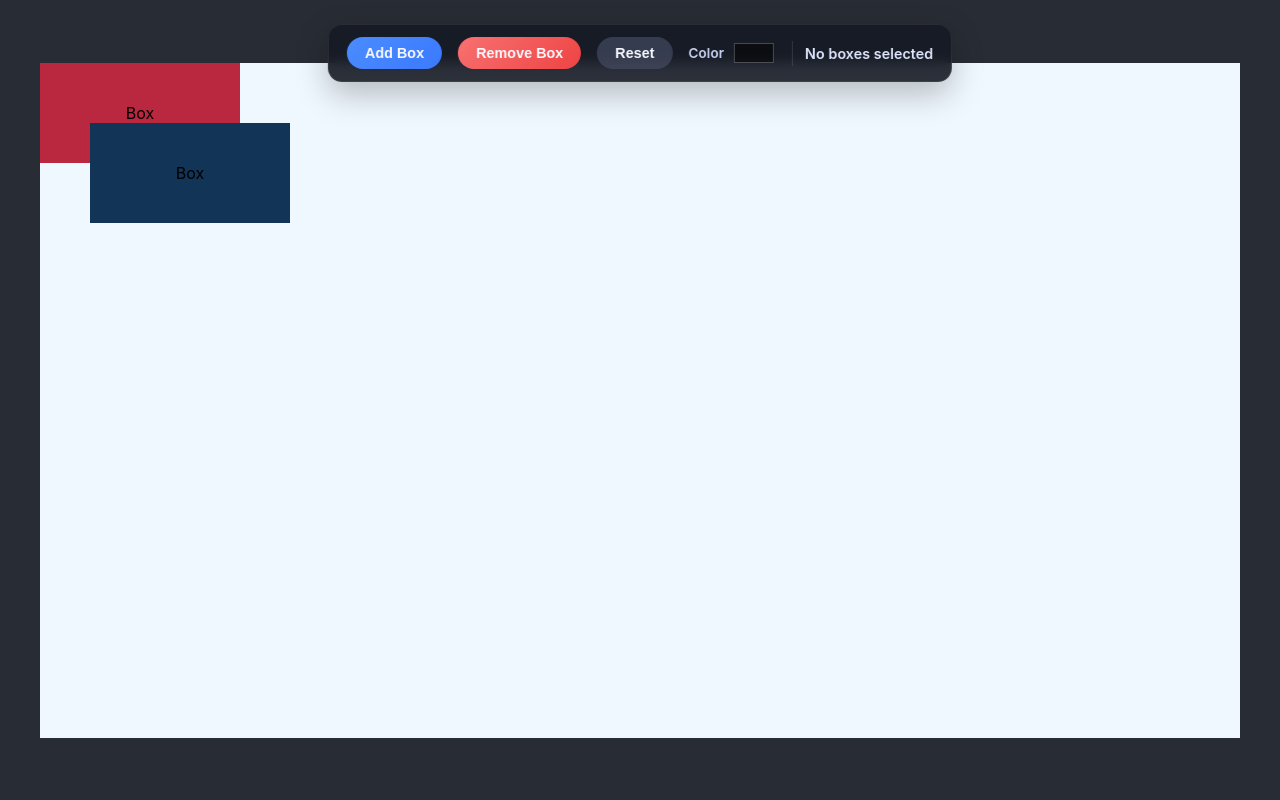
App › should update the color control when the user selects another box then the picker mirrors that box color
Click the 1st button "Box": (140, 112) [40,62,240,162]
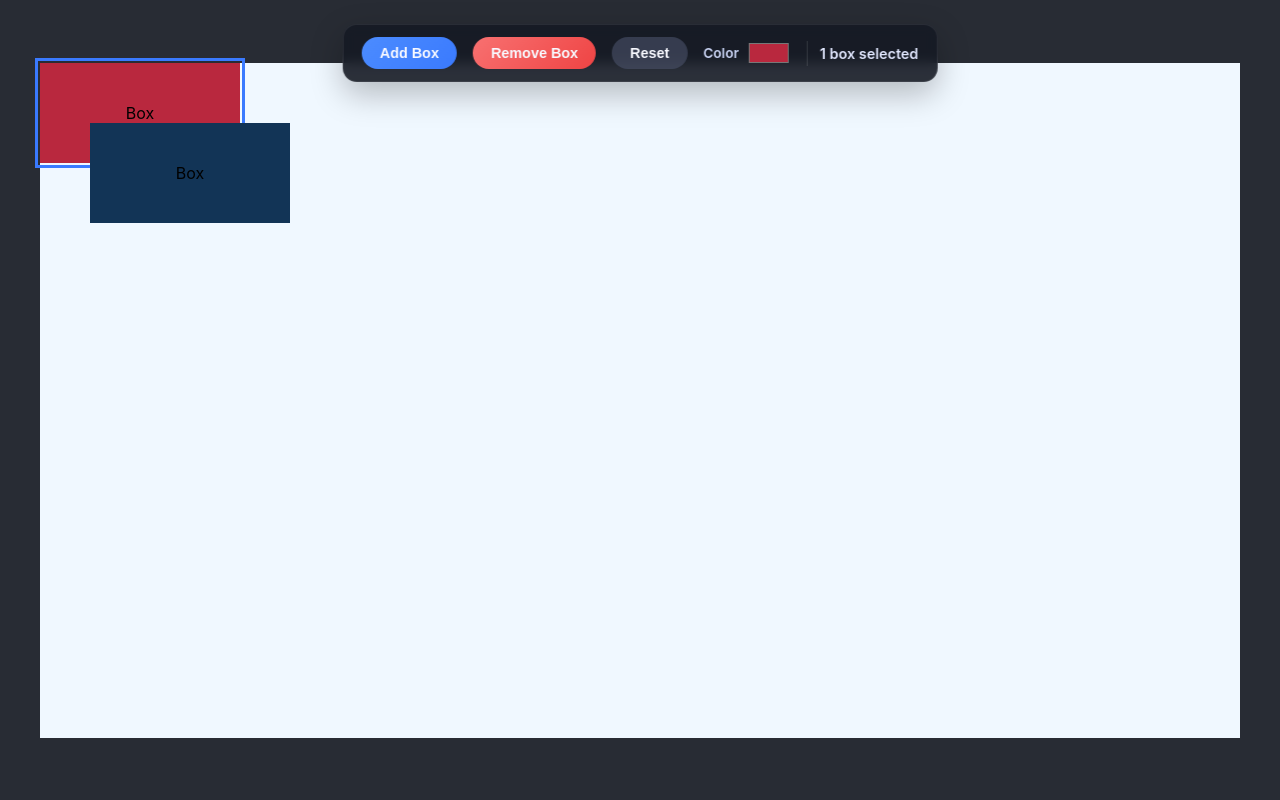
In the colour field named "box color": (769, 53) [747,39,791,67], type "#abcdef"
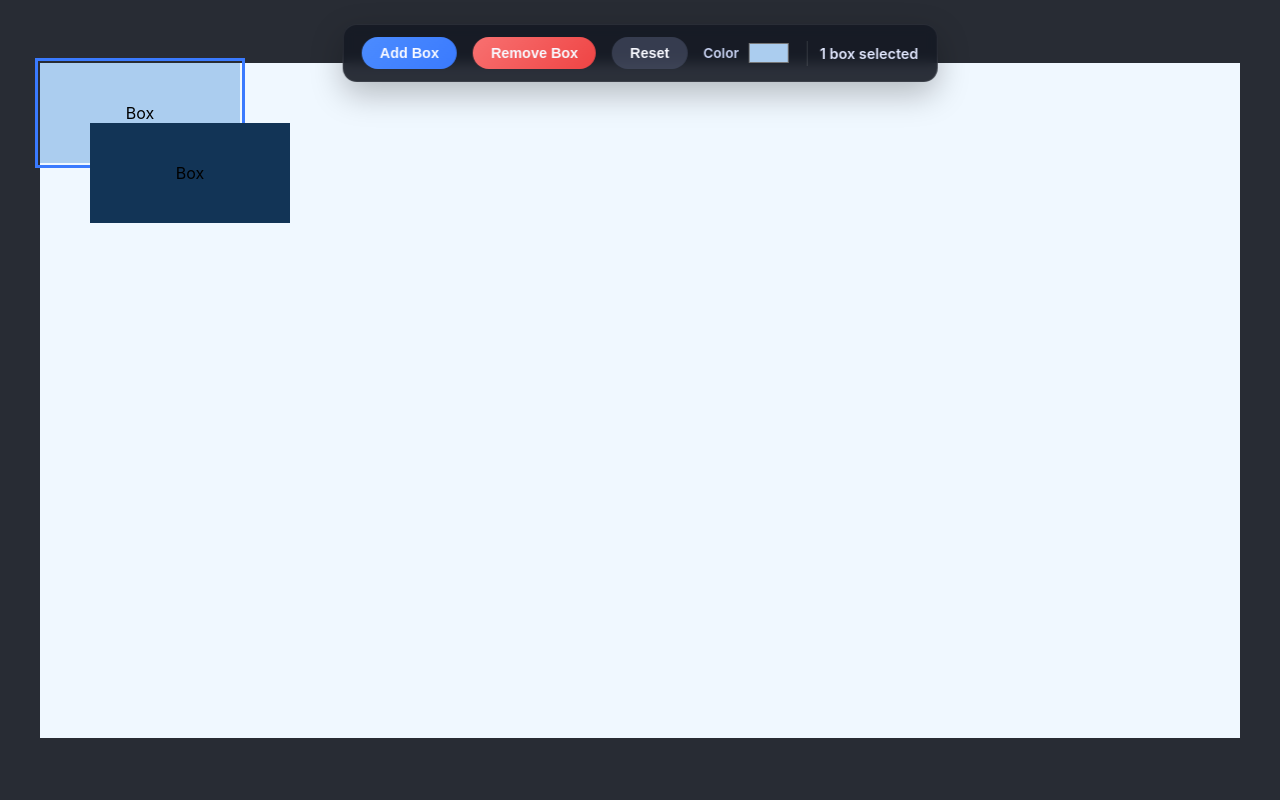
Click the 2nd button "Box": (190, 172) [90,122,290,222]
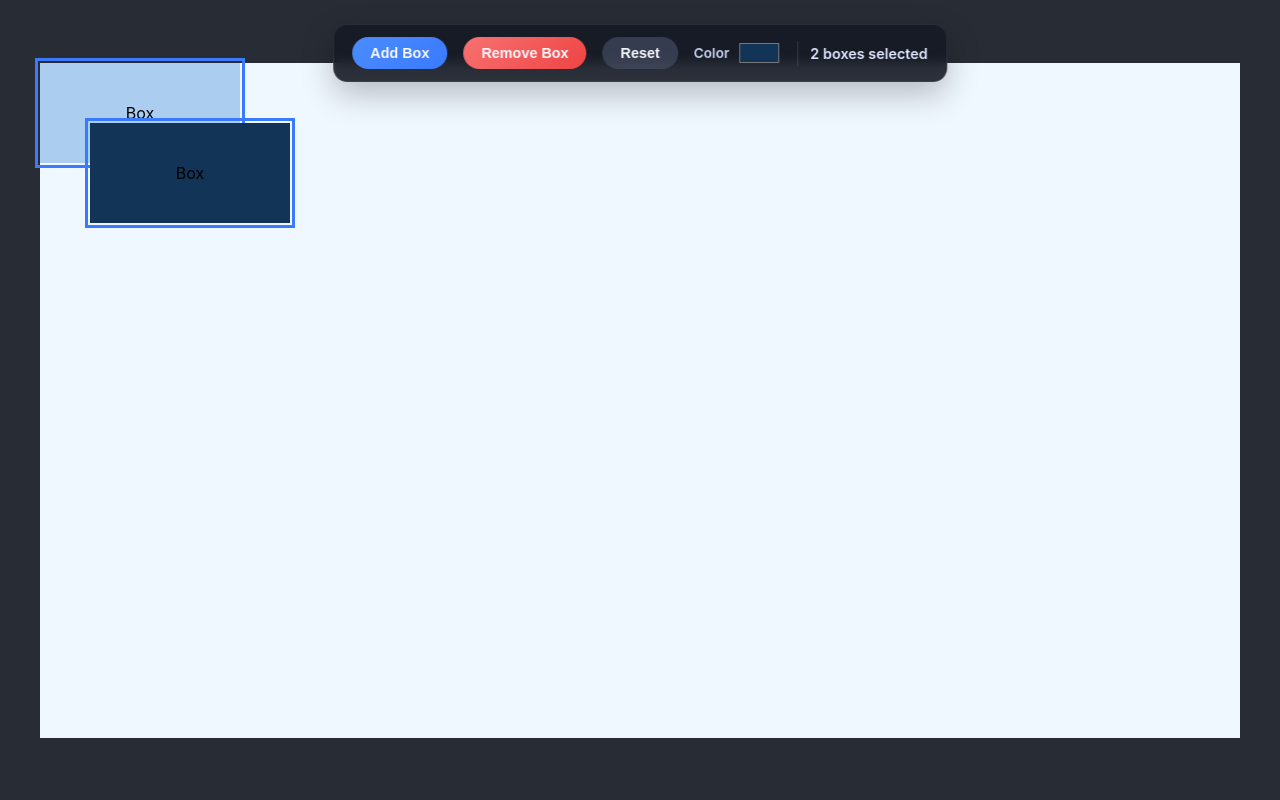
Result: the colour field named "box color" holds "#123456" at [737,39,781,67]
